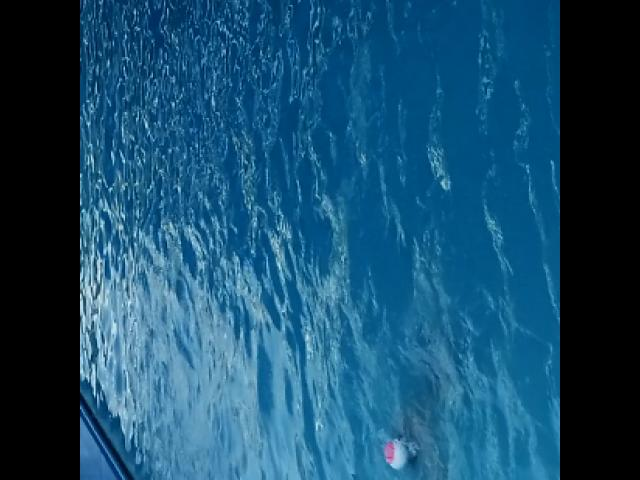drowning: (369, 340, 443, 480)
